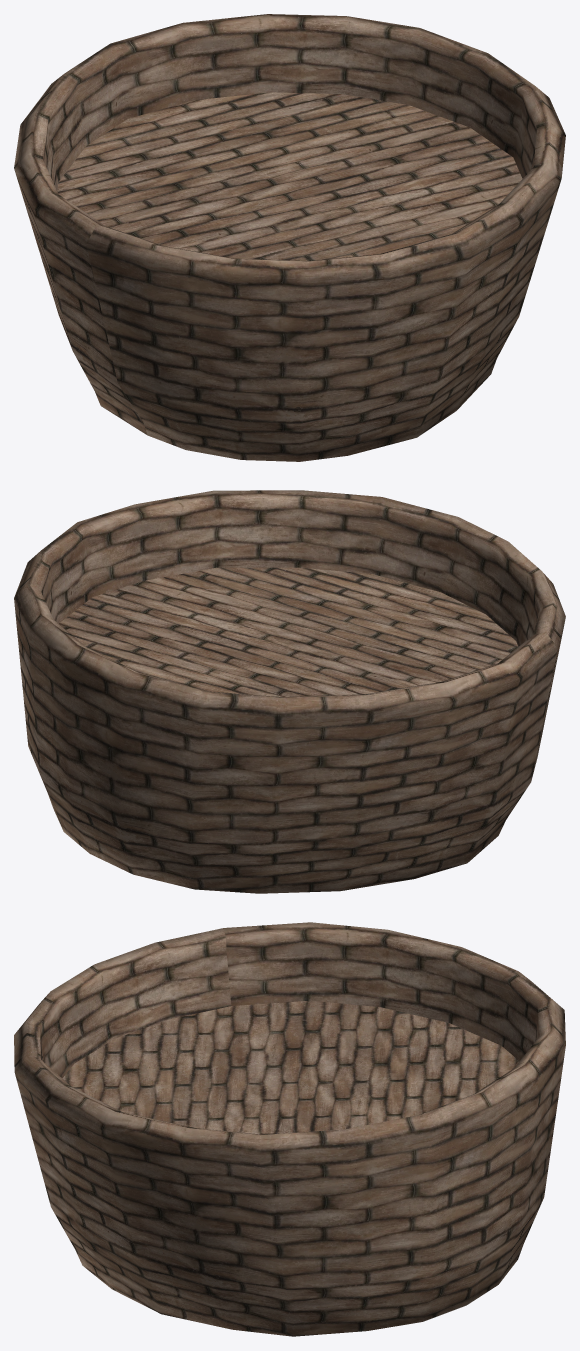
The model's file is Wicker_Basket_02_04.glb.
The picture shows the model from 3 angles, top to bottom: view 1: azimuth 30°, elevation 25°; view 2: azimuth 150°, elevation 25°; view 3: azimuth 270°, elevation 25°; orthographic projection.
Visible parts, largest first — view 1: Wicker_Basket_02_04; view 2: Wicker_Basket_02_04; view 3: Wicker_Basket_02_04.
Boxes of the visible parts, x1=… form: Wicker_Basket_02_04: x1=14, y1=14, x2=565, y2=461; Wicker_Basket_02_04: x1=14, y1=490, x2=565, y2=893; Wicker_Basket_02_04: x1=14, y1=922, x2=565, y2=1336.
Size of the model in its own units: 0.3217 by 0.1551 by 0.319.
1 material, 1 textured.
